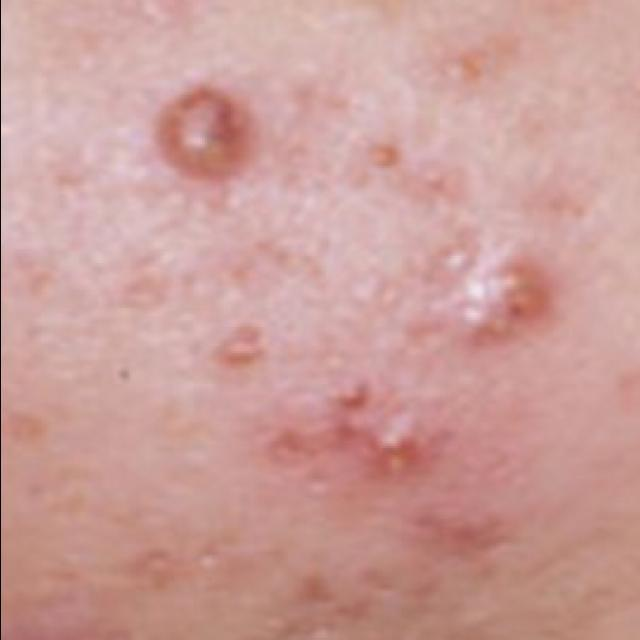acne: (258, 367, 458, 517), (405, 202, 569, 372), (140, 55, 264, 218), (362, 119, 427, 194)
